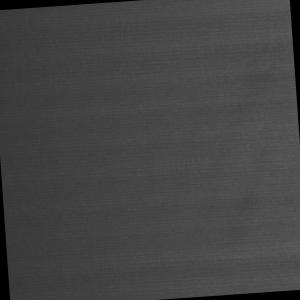Wrinkle: (1, 1, 300, 150), (64, 242, 300, 297)
